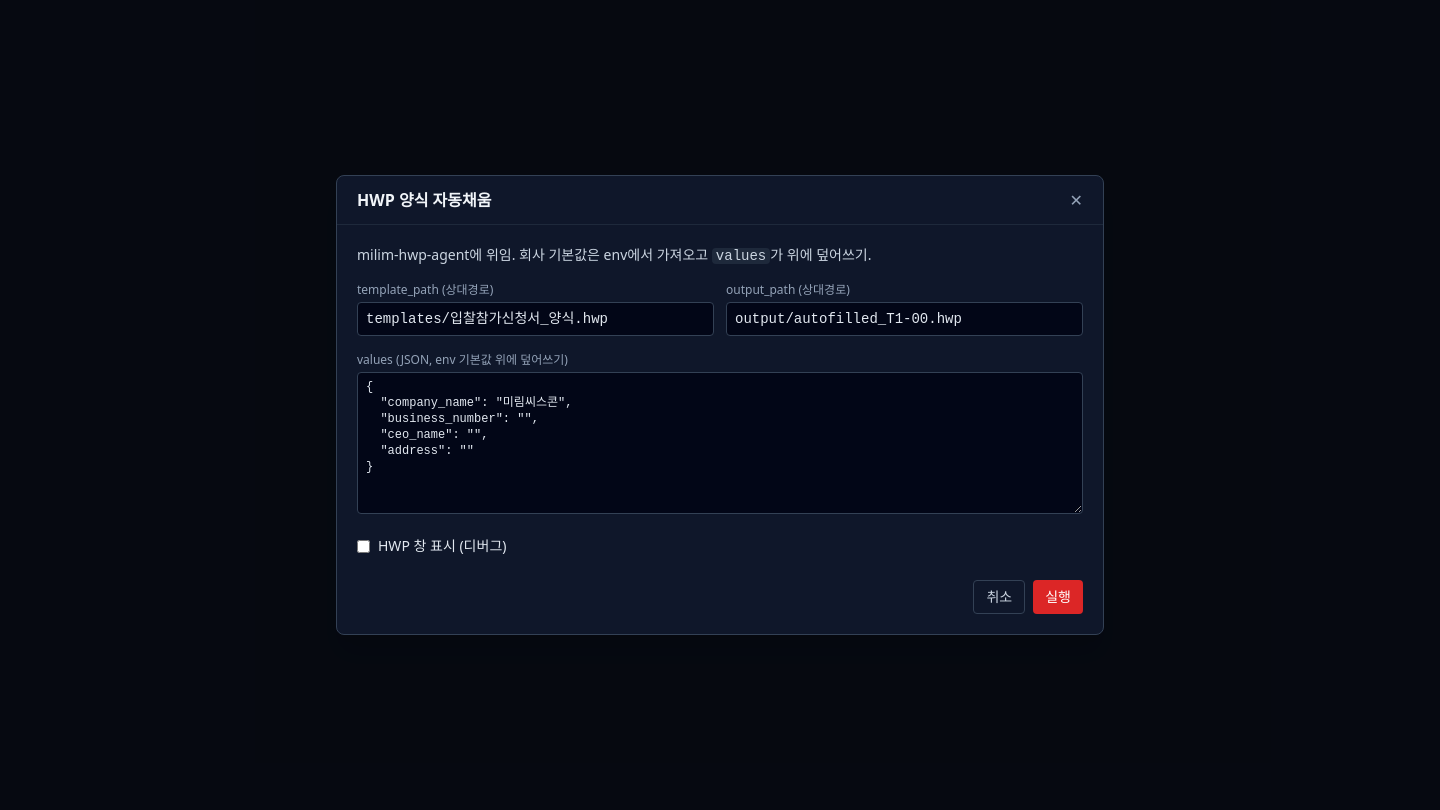
Scenario: AutofillDialog › rejects path with traversal '..'
Replace the text in the field showing "templates/입찰참가신청서" with "../etc/passwd" at (536, 319), box [357, 302, 714, 336]
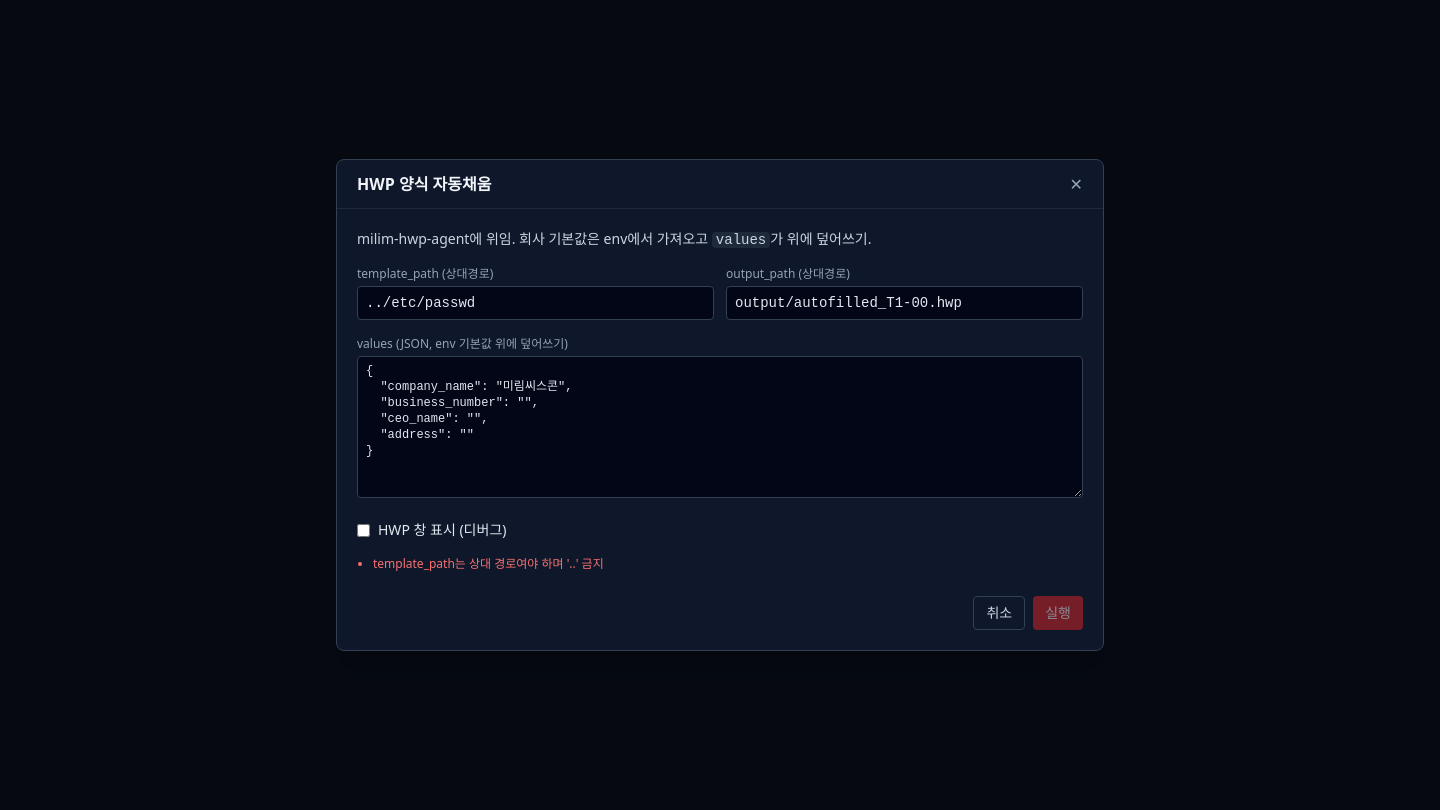
Expected: the list item "template_path는 상대 경로여야 하며 '..' 금지" is shown, [373, 555, 604, 572]
